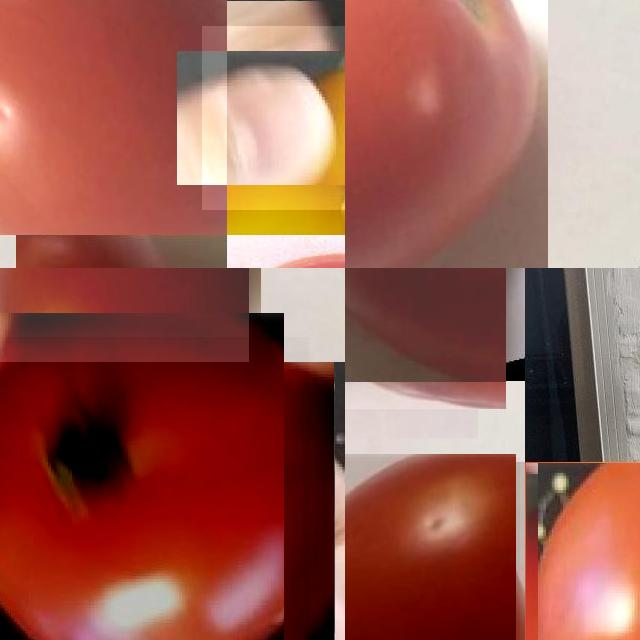Fresh Tomato: (0, 337, 309, 640), (345, 0, 547, 268), (0, 0, 227, 235), (345, 457, 520, 640), (0, 268, 249, 362), (345, 268, 506, 409), (525, 462, 640, 640)
Rotten Tomato: (202, 25, 345, 210)
